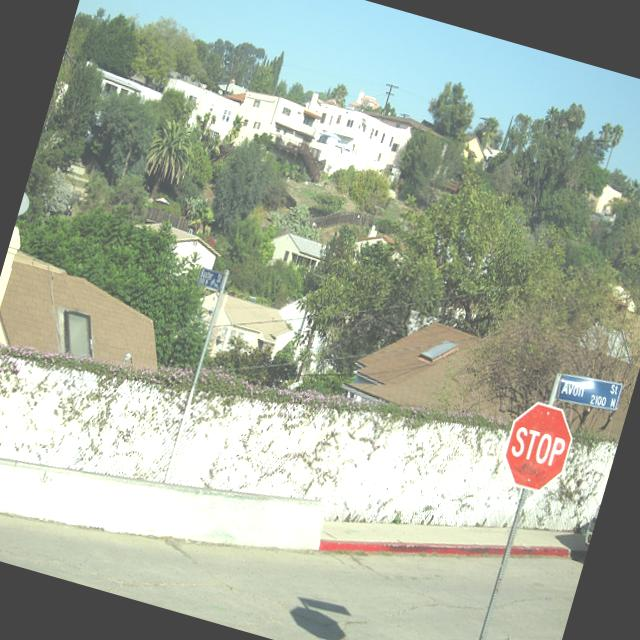Vehicle: (583, 502, 600, 544)
